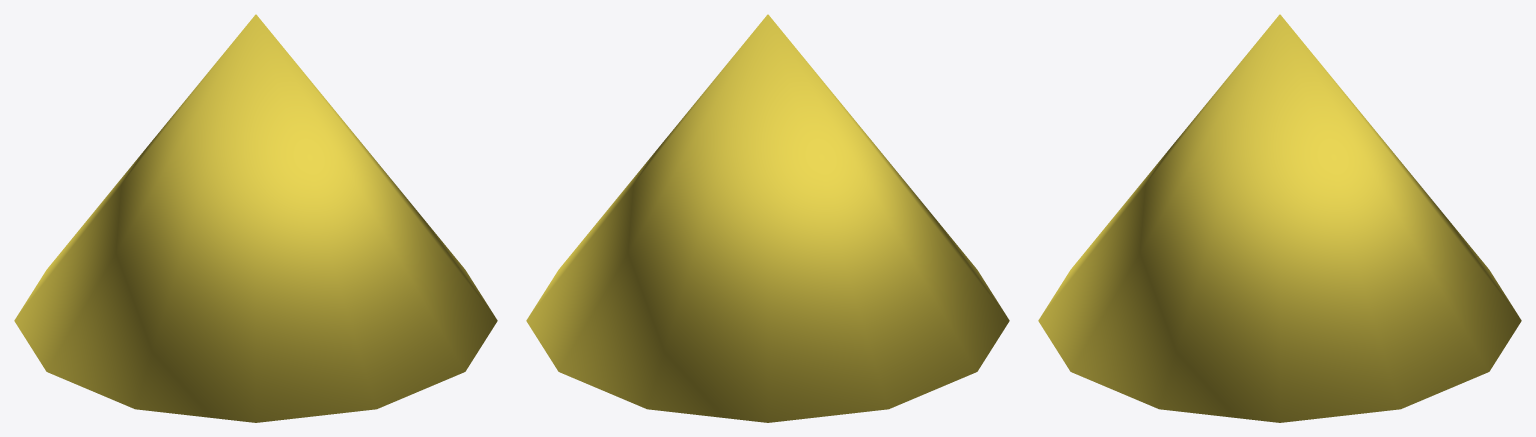
Rendered from Feed.fbx.
3 views of the same model, side by side, from view 1: azimuth 30°, elevation 25°; view 2: azimuth 150°, elevation 25°; view 3: azimuth 270°, elevation 25° (orthographic).
Parts seen in each view (by area): view 1: Feed; view 2: Feed; view 3: Feed.
Boxes of the visible parts, bbox=[...] form: Feed: bbox=[14, 14, 497, 422]; Feed: bbox=[526, 14, 1009, 422]; Feed: bbox=[1038, 14, 1521, 422].
Bounding box in the file's own units: 200 × 140 × 200.
